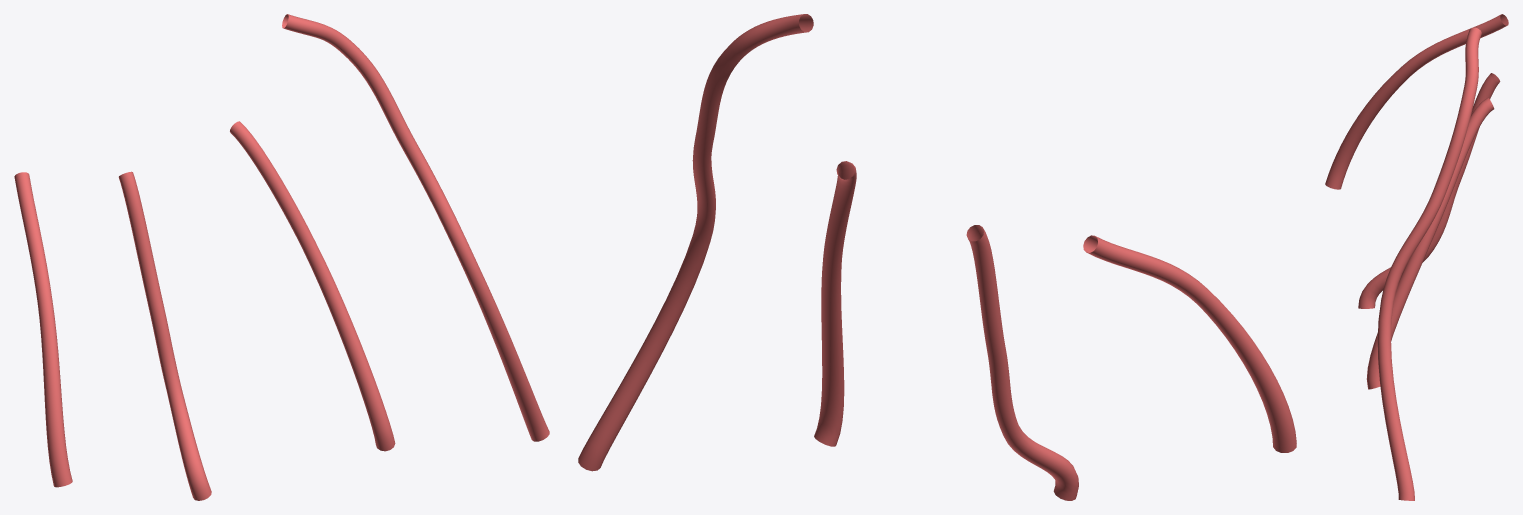
Rendered from Common_palmar_digital_arteries.l_BezierCurve.270.glb.
The picture shows the model from 3 angles, left to right: view 1: azimuth 30°, elevation 25°; view 2: azimuth 150°, elevation 25°; view 3: azimuth 270°, elevation 25°; orthographic projection. The views are drawn at different scales.
Visible parts, largest first — view 1: Common_palmar_digital_arteries.l_BezierCurve.270; view 2: Common_palmar_digital_arteries.l_BezierCurve.270; view 3: Common_palmar_digital_arteries.l_BezierCurve.270.
Boxes of the visible parts, x1,y1,x2,y2 form: Common_palmar_digital_arteries.l_BezierCurve.270: (14, 14, 549, 500); Common_palmar_digital_arteries.l_BezierCurve.270: (578, 14, 1296, 500); Common_palmar_digital_arteries.l_BezierCurve.270: (1325, 14, 1508, 500).
Bounding box in the file's own units: 0.0566 × 0.0451 × 0.0195.
